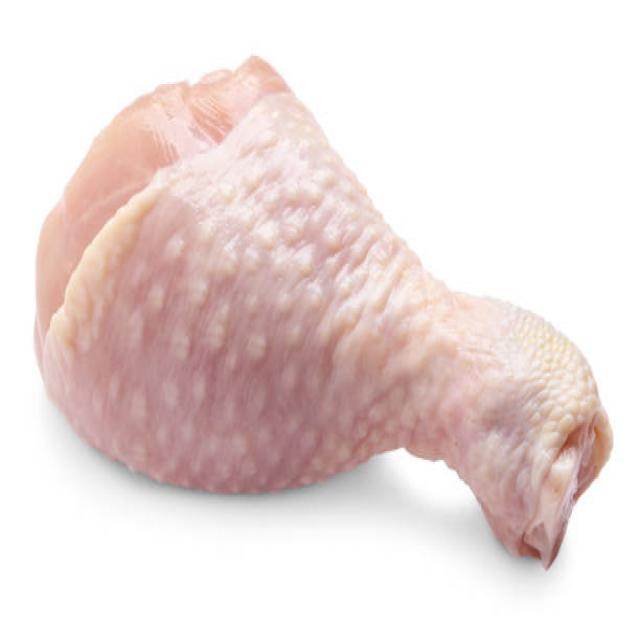Chicken Thigh: (20, 44, 617, 569)
